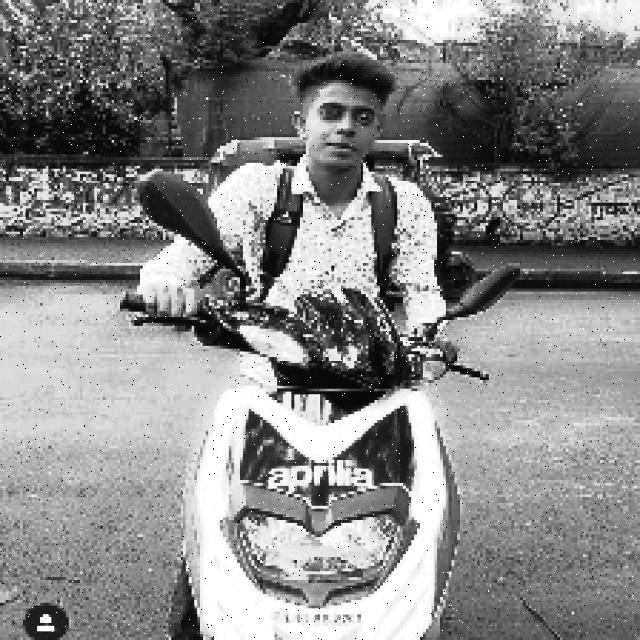Bike: (183, 290, 457, 640)
